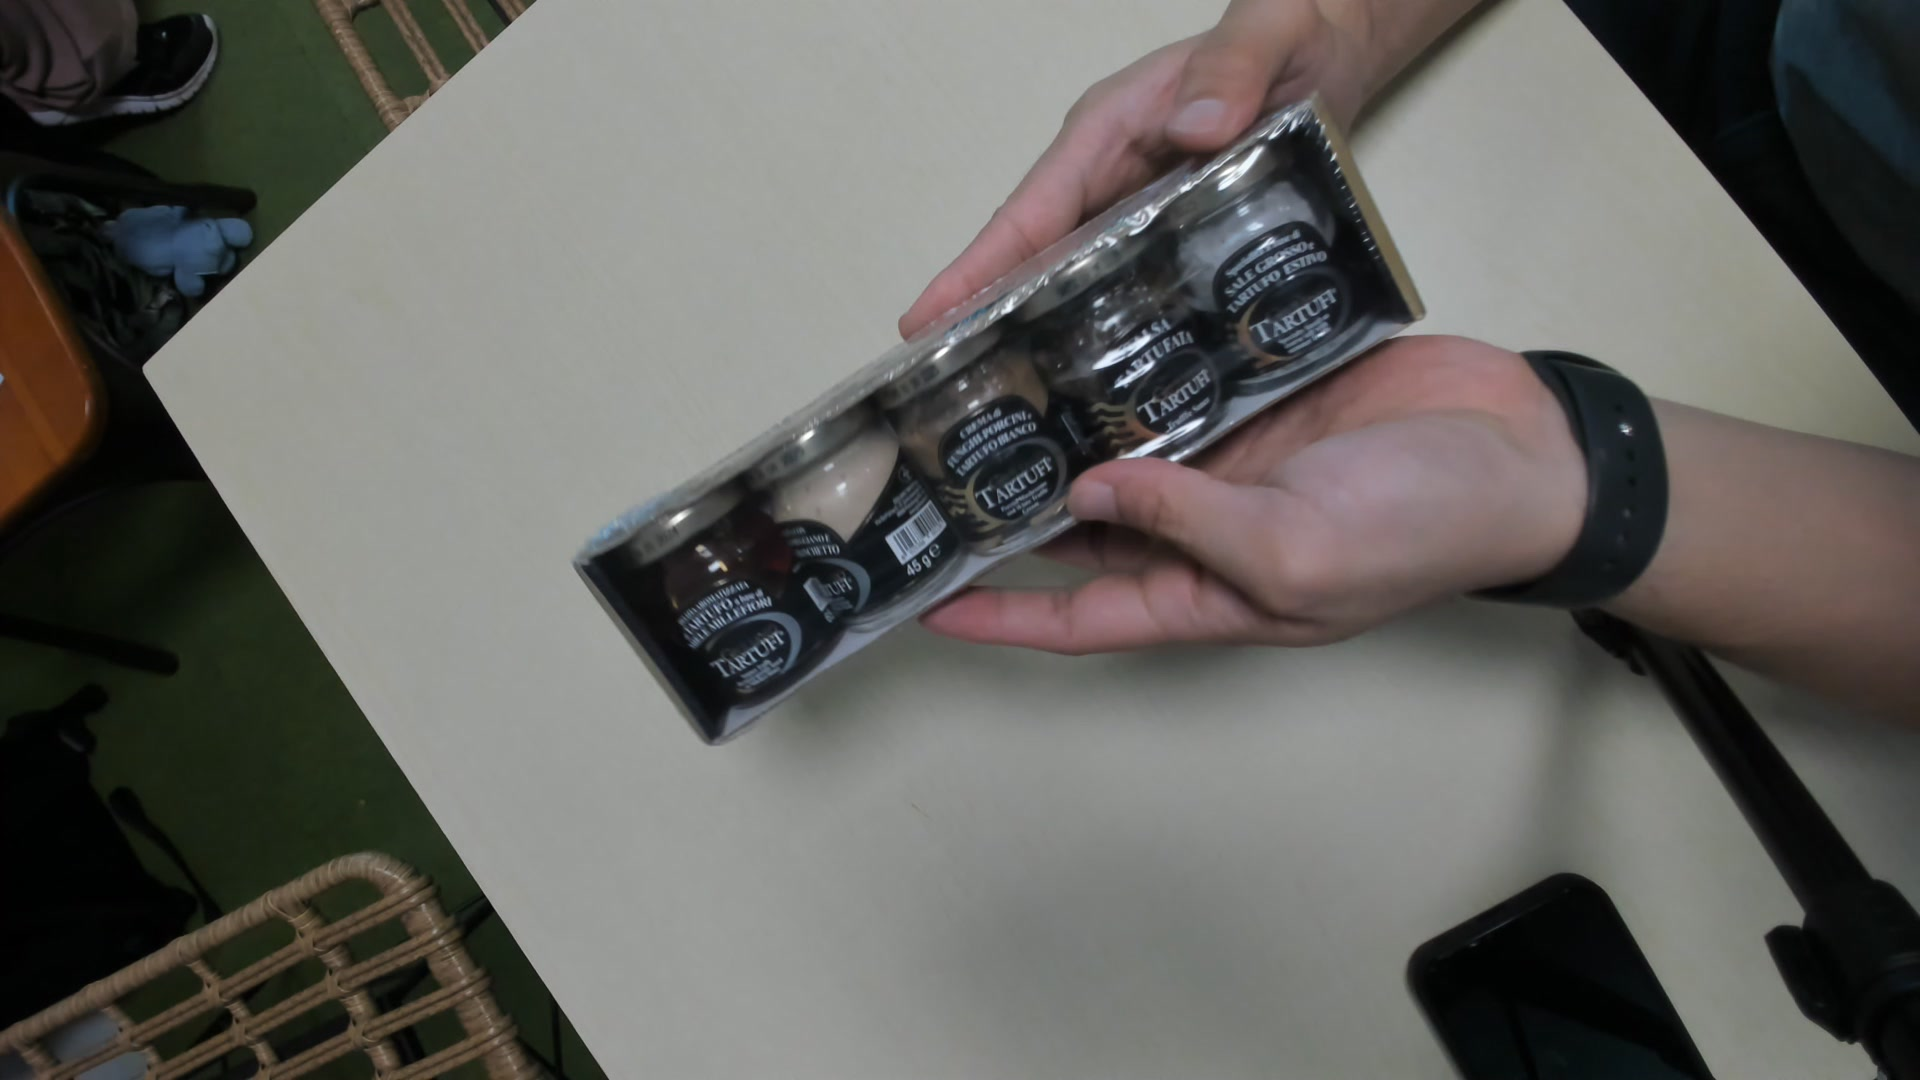OtherSauceDressing_500-599g_NonHalal_NonHealthy: (567, 95, 1437, 764)
